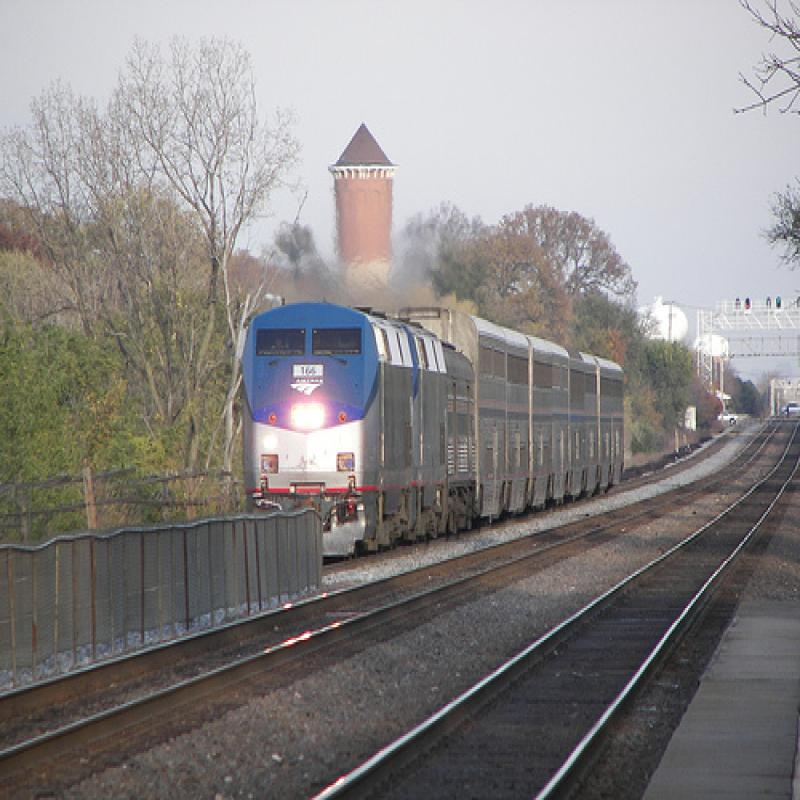train: (235, 289, 628, 560)
